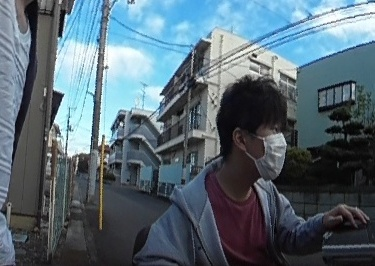person: (147, 74, 339, 266)
